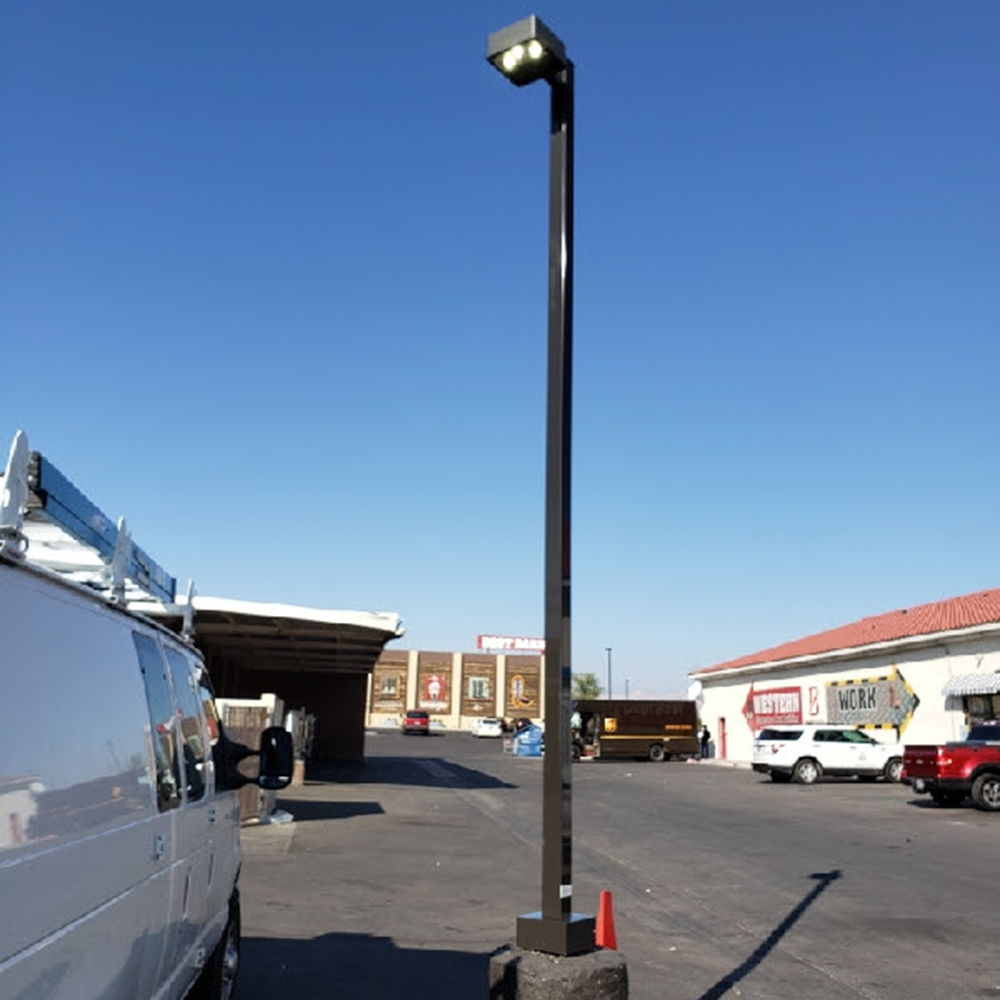car: (1, 426, 260, 1000), (742, 715, 920, 796), (565, 682, 709, 772), (897, 717, 1000, 818), (387, 707, 439, 740)
pole: (464, 1, 644, 1000)
